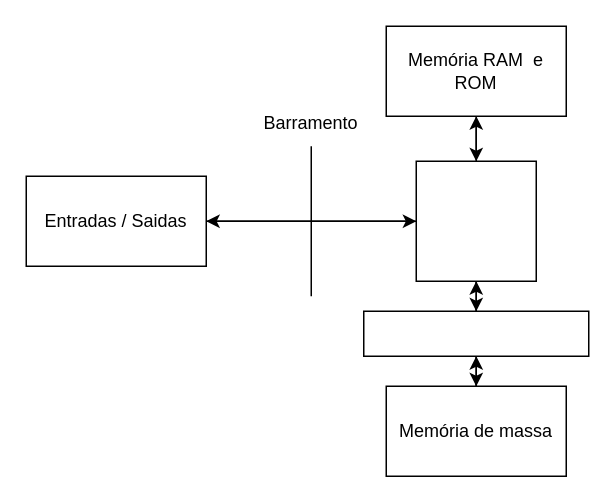
The diagram is 615 pixels wide and 503 high, and some of its shapes have lost their labels. Here are the shapes that lost their labels. From the top down, the centre of each, then its label:
At [475,220]: "CPU".
At [475,333]: "Controladores de disco".
